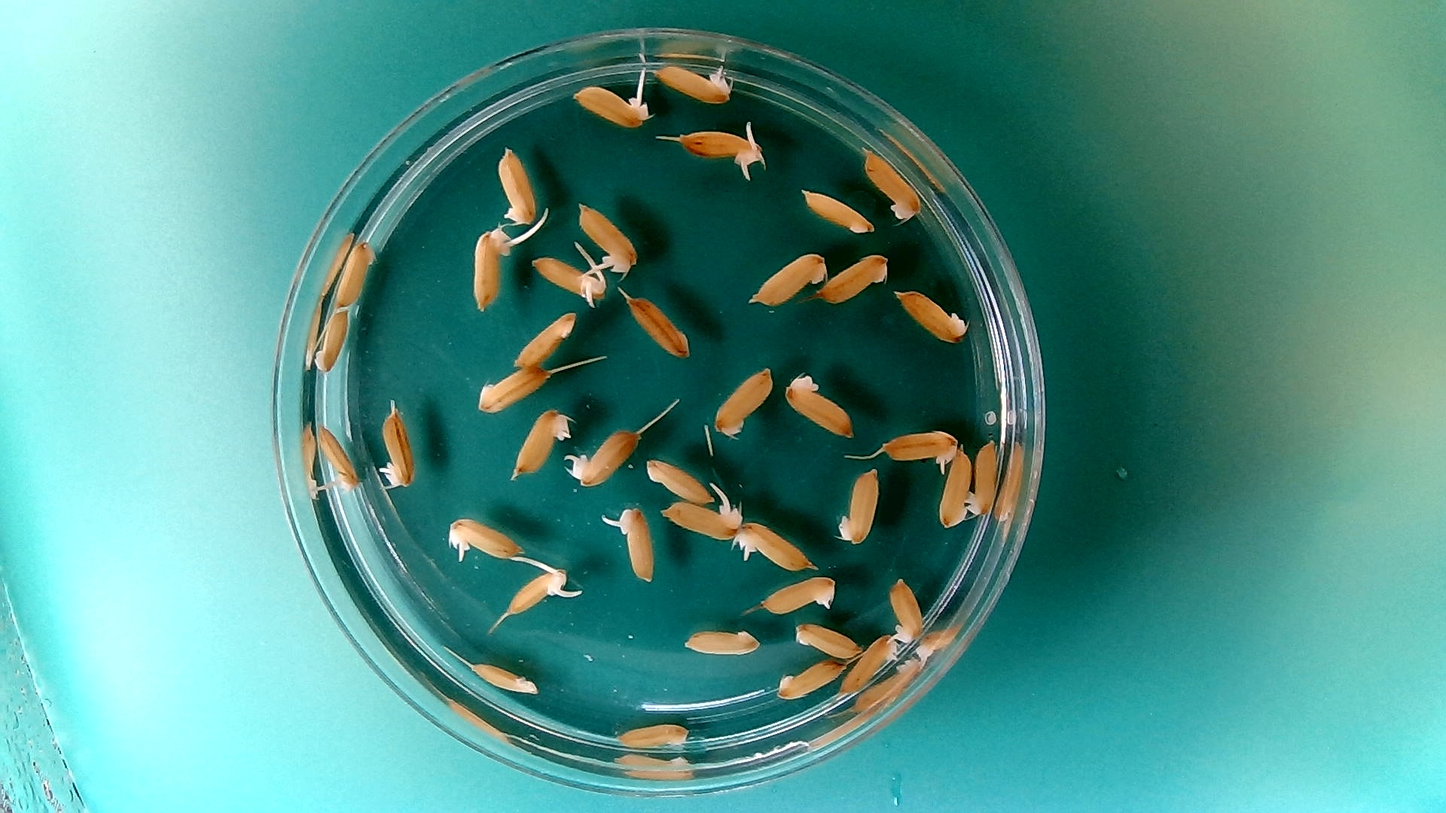no: (781, 370, 856, 439), (859, 142, 923, 221), (746, 248, 829, 308), (710, 363, 775, 439), (892, 285, 971, 343), (624, 291, 691, 358), (511, 308, 578, 370), (816, 251, 891, 305), (834, 464, 882, 547), (837, 632, 898, 697), (799, 184, 876, 235), (476, 364, 551, 414), (643, 455, 715, 506), (496, 145, 539, 227), (773, 656, 849, 701), (936, 445, 974, 531), (339, 232, 378, 314), (963, 437, 1001, 519), (611, 718, 692, 753), (466, 659, 540, 696), (792, 620, 862, 659), (311, 306, 350, 376), (682, 625, 762, 658)
yes: (563, 424, 642, 487), (470, 222, 523, 313), (675, 122, 765, 175), (575, 200, 639, 274), (509, 405, 572, 479), (732, 519, 814, 572), (606, 502, 657, 583), (571, 79, 654, 128), (443, 513, 525, 562), (651, 60, 737, 105), (377, 400, 419, 492), (502, 563, 572, 618), (879, 426, 960, 473), (531, 253, 606, 303), (757, 572, 837, 617), (659, 497, 741, 540), (315, 421, 360, 493), (886, 573, 926, 644)
